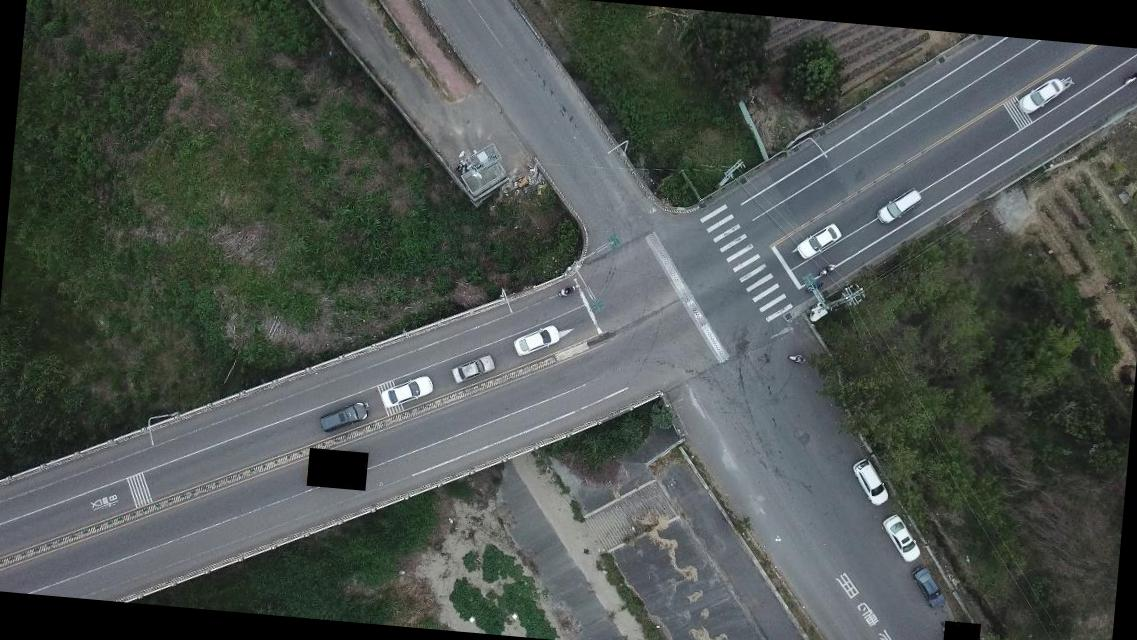vehicle: (876, 514, 923, 566), (848, 456, 892, 506), (876, 182, 926, 225), (380, 370, 433, 410), (795, 220, 844, 262), (1018, 76, 1067, 118), (317, 398, 371, 436), (511, 319, 561, 357), (449, 349, 499, 387), (908, 566, 948, 610)
